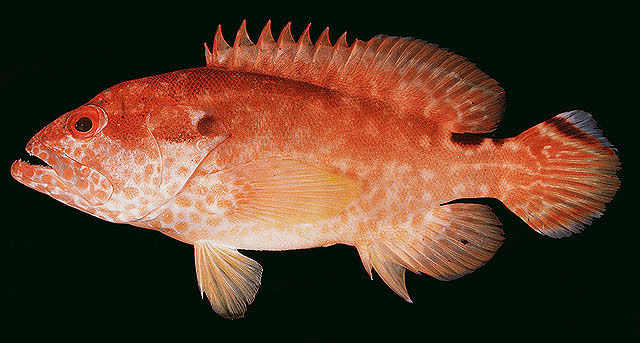fish: (11, 21, 621, 320)
